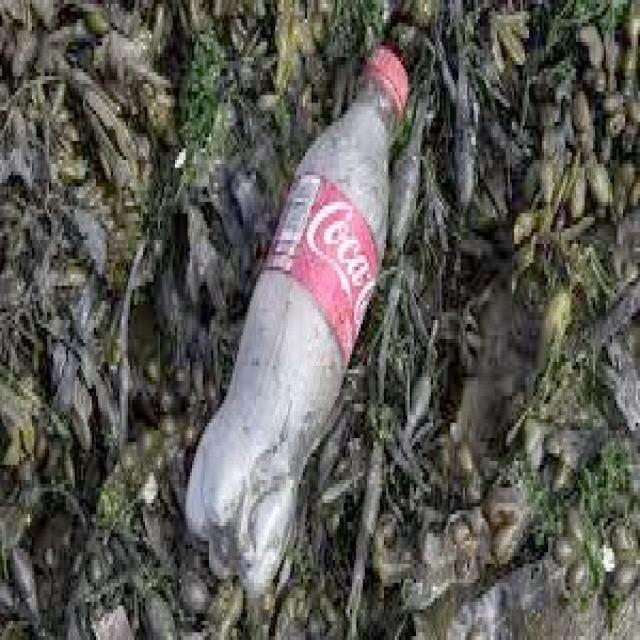bottle: (186, 48, 407, 599)
